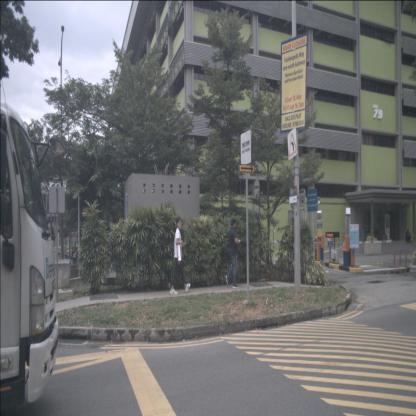cone: (398, 249, 402, 268), (404, 250, 408, 268), (393, 247, 396, 268)
